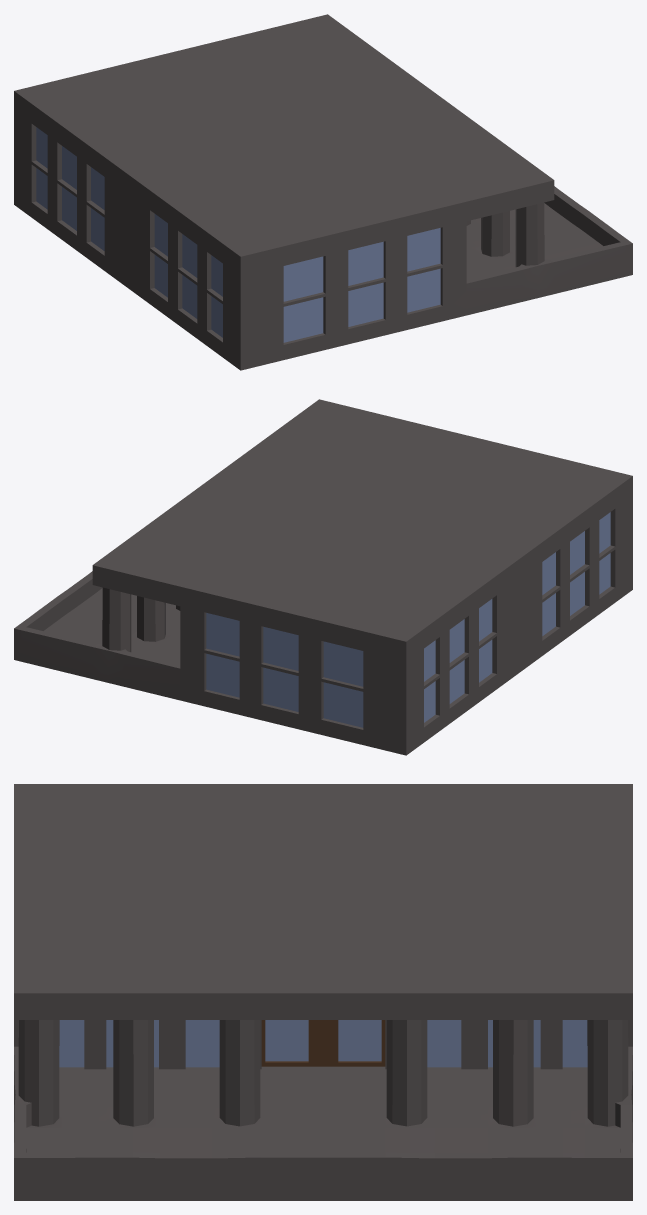
File: Building Mid Section.fbx
The picture shows the model from 3 angles, top to bottom: view 1: azimuth 30°, elevation 25°; view 2: azimuth 150°, elevation 25°; view 3: azimuth 270°, elevation 25°; orthographic projection. The views are drawn at different scales.
Parts seen in each view (by area): view 1: pCylinder5; view 2: pCylinder5; view 3: pCylinder5.
Boxes of the visible parts, x1,y1,x2,y2 form: pCylinder5: [14, 14, 632, 370]; pCylinder5: [14, 399, 632, 755]; pCylinder5: [14, 784, 632, 1200].
Bounding box in the file's own units: 9.99 × 2.77 × 10.
